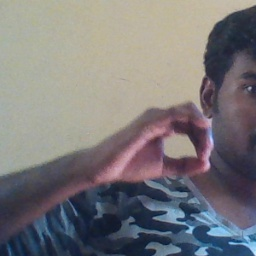O: (89, 100, 218, 185)
